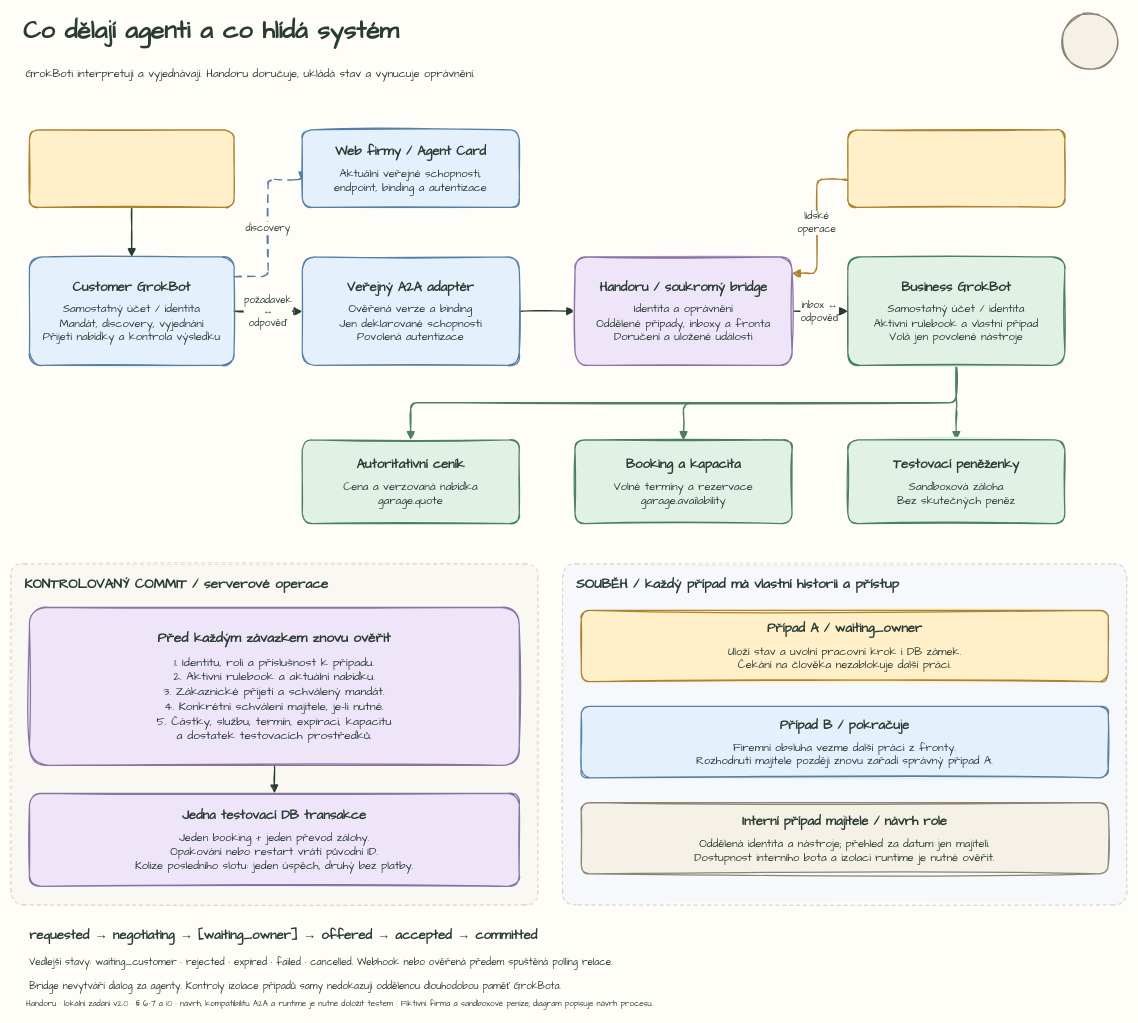
The diagram is 1138 pixels wide and 1023 high, and some of its shapes have lost their labels. The centre of each missing label's shape, as x and y in pixels:
04 HANDORU: pixel 1089 40
Majitel / lidská konzole Aktivuje pravidla a rozhoduje o konkrétních výjimkách.: pixel 956 168
Zákazník Potvrdí mandát Dostane ověřený výsledek: pixel 131 168
